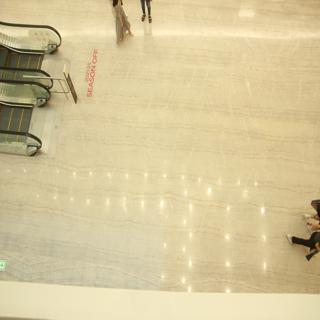person: (287, 190, 320, 282)
